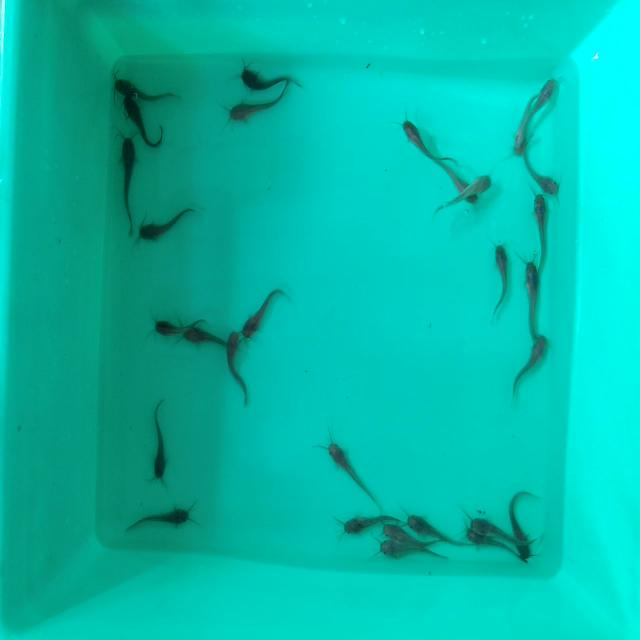lele: (509, 482, 540, 563), (326, 440, 372, 494), (139, 205, 195, 248), (400, 115, 458, 156), (240, 62, 314, 93), (123, 98, 167, 150), (243, 287, 285, 340), (432, 174, 492, 211), (513, 334, 547, 396), (119, 138, 138, 239), (225, 97, 292, 124), (421, 157, 470, 193), (524, 149, 561, 195), (126, 507, 192, 532), (113, 74, 178, 99), (527, 192, 550, 261), (224, 331, 246, 401), (183, 318, 225, 354), (491, 244, 512, 312), (152, 397, 169, 478), (464, 504, 510, 533), (530, 71, 556, 118), (408, 511, 453, 538), (341, 505, 381, 535), (467, 530, 512, 556), (524, 261, 541, 329), (512, 102, 532, 154), (150, 315, 184, 342), (378, 522, 414, 542), (367, 540, 404, 558)
